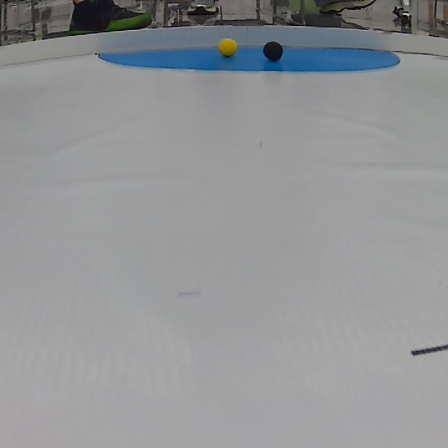black: (263, 43, 284, 60)
blue_base: (97, 40, 405, 74)
yellow: (220, 36, 237, 56)
